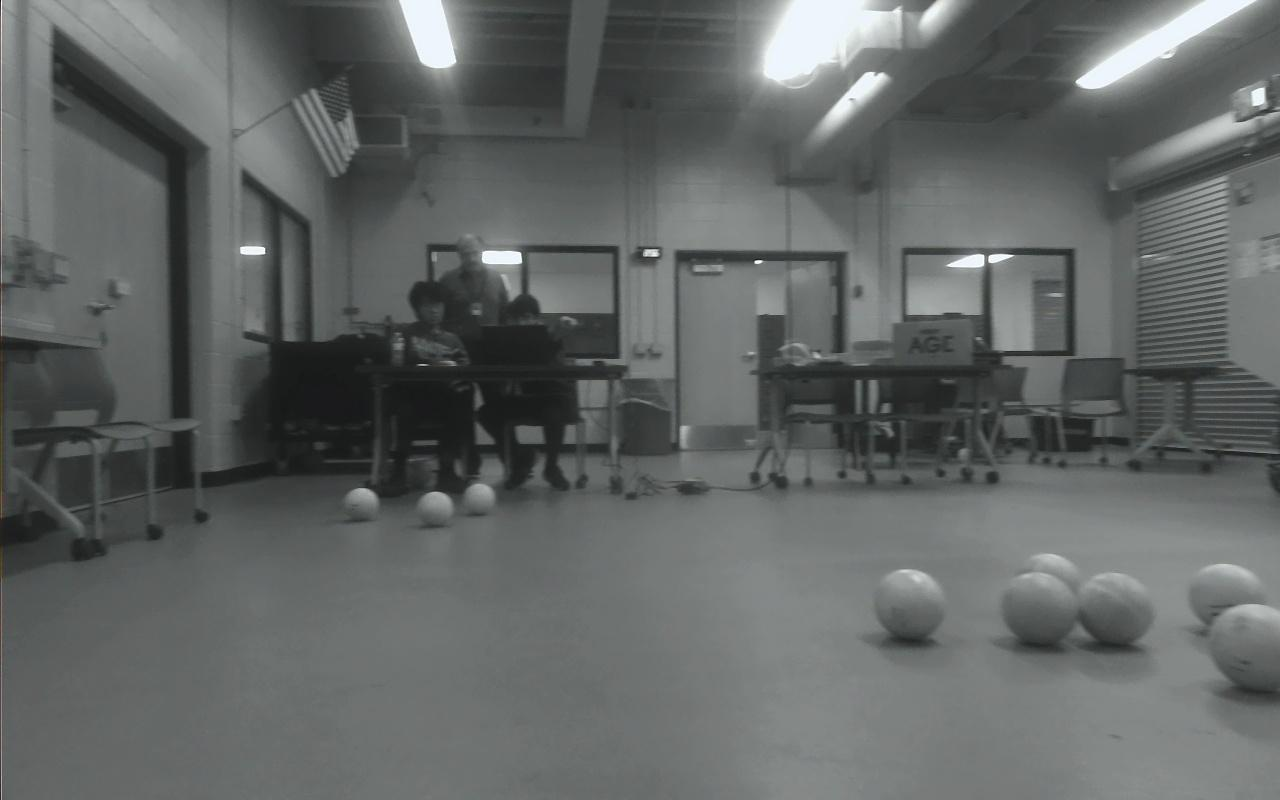Fuel: (1210, 604, 1280, 692), (1076, 572, 1155, 646), (1001, 572, 1078, 645), (1187, 564, 1267, 632), (873, 568, 945, 641), (1015, 553, 1084, 615), (417, 492, 454, 528), (343, 488, 379, 521), (463, 482, 497, 516)
